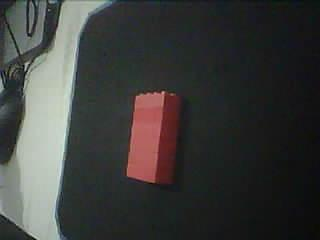lego: (126, 90, 182, 185)
